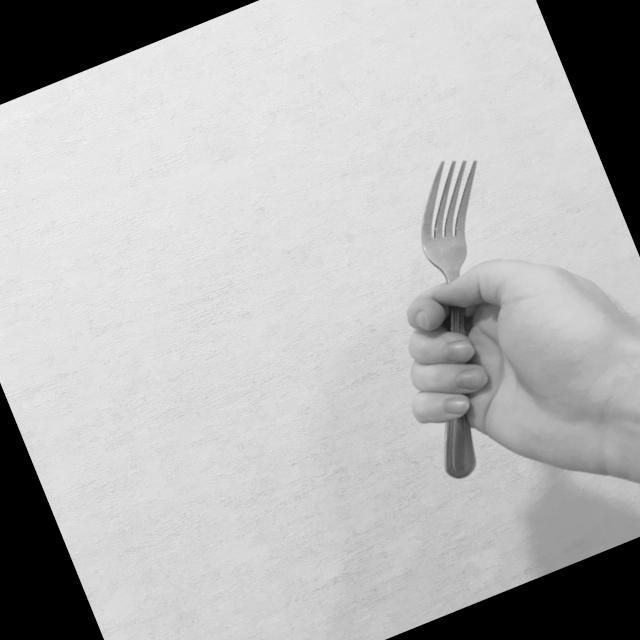fork: (335, 148, 586, 484)
